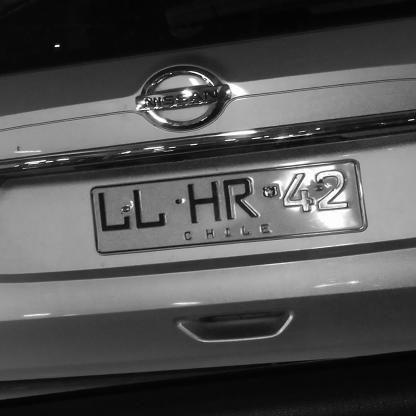Patente: (90, 159, 368, 257)
